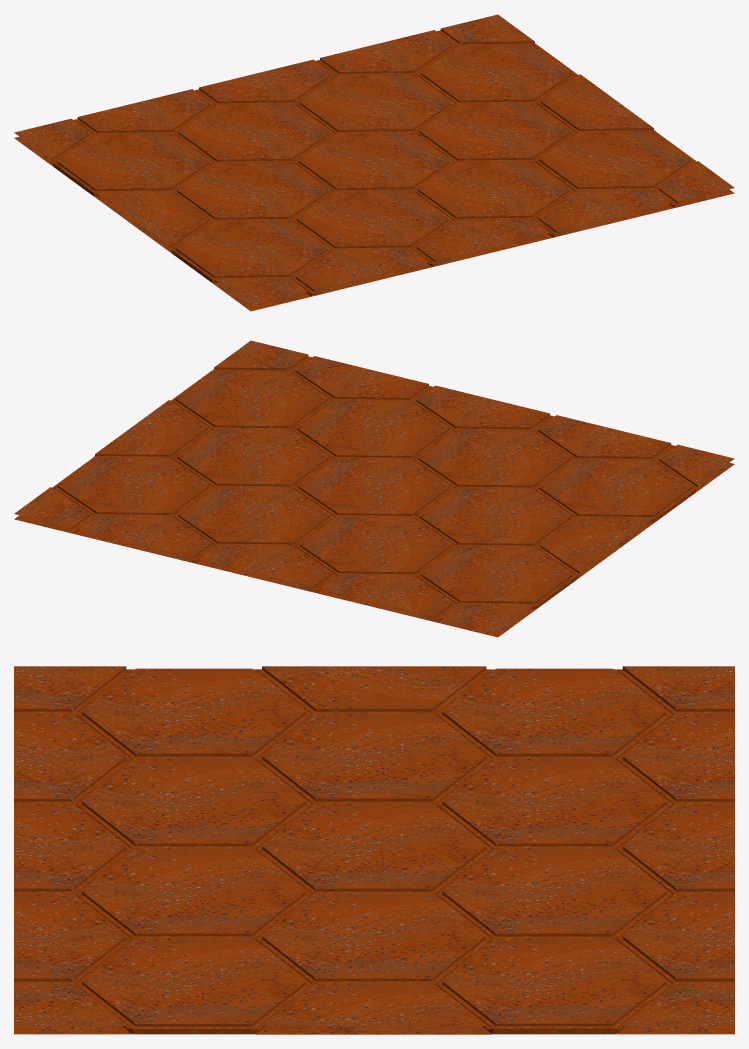
File: HexagonalBaseLargeSingle.glb
3 renders of one model, top to bottom at view 1: azimuth 30°, elevation 25°; view 2: azimuth 150°, elevation 25°; view 3: azimuth 270°, elevation 25°, orthographic. The views are drawn at different scales.
Parts seen in each view (by area): view 1: HexagonalBaseLargeSingle; view 2: HexagonalBaseLargeSingle; view 3: HexagonalBaseLargeSingle.
Boxes of the visible parts, bbox=[...] form: HexagonalBaseLargeSingle: bbox=[14, 14, 734, 311]; HexagonalBaseLargeSingle: bbox=[14, 340, 734, 637]; HexagonalBaseLargeSingle: bbox=[14, 666, 734, 1034].
Size of the model in its own units: 2.78 by 0.03 by 2.36.
Materials: 1 (1 with a texture image).
